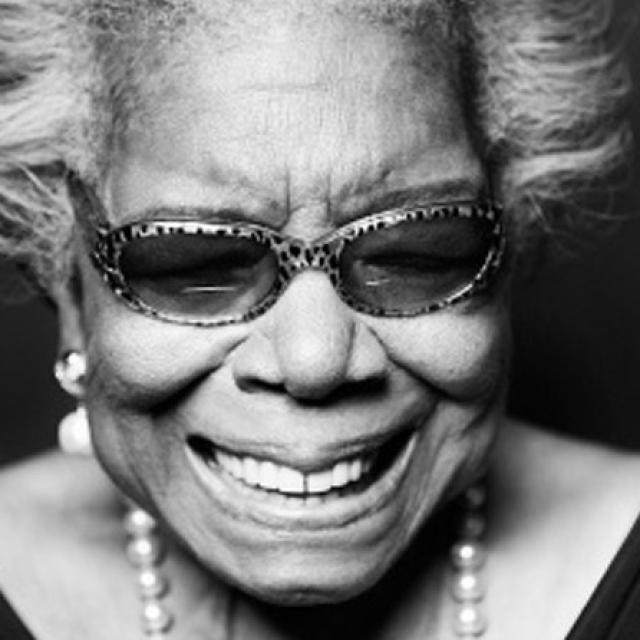Normal: (72, 27, 506, 606)
